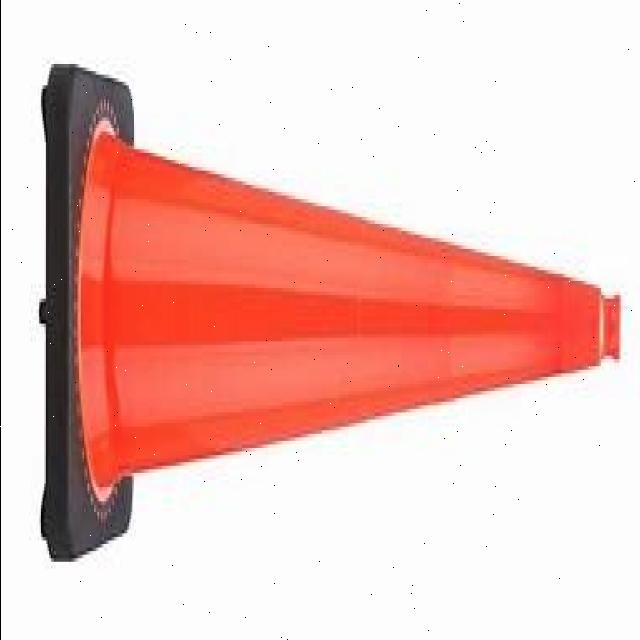traffic cone: (31, 48, 631, 588)
